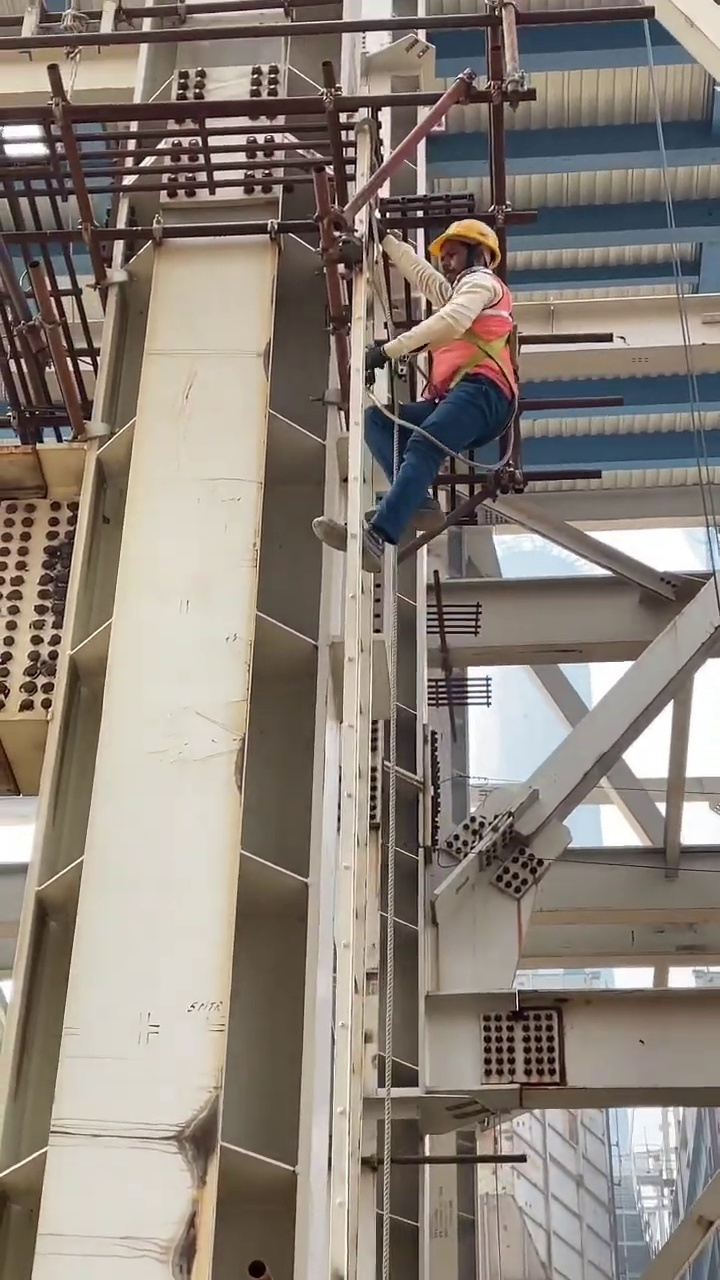Helmet: (432, 214, 504, 252)
Person: (306, 215, 524, 570)
Safety_Harness: (408, 269, 525, 469)
Safety_shoes: (313, 513, 386, 571), (401, 499, 445, 532)
